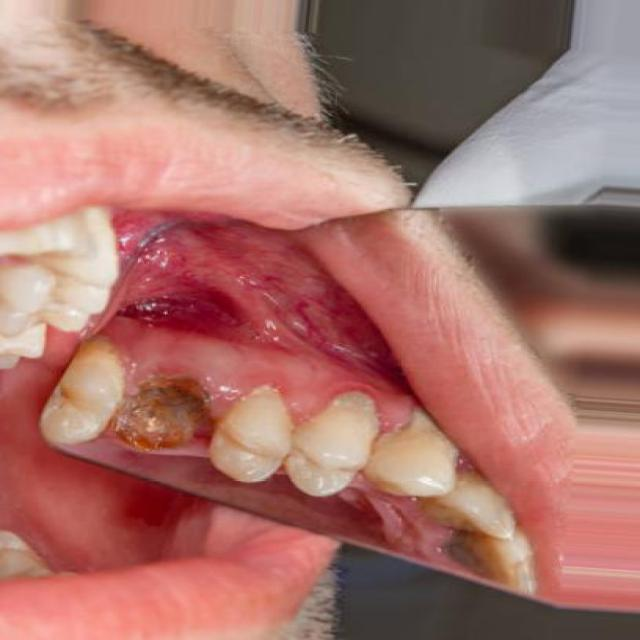caries: (92, 374, 228, 464)
